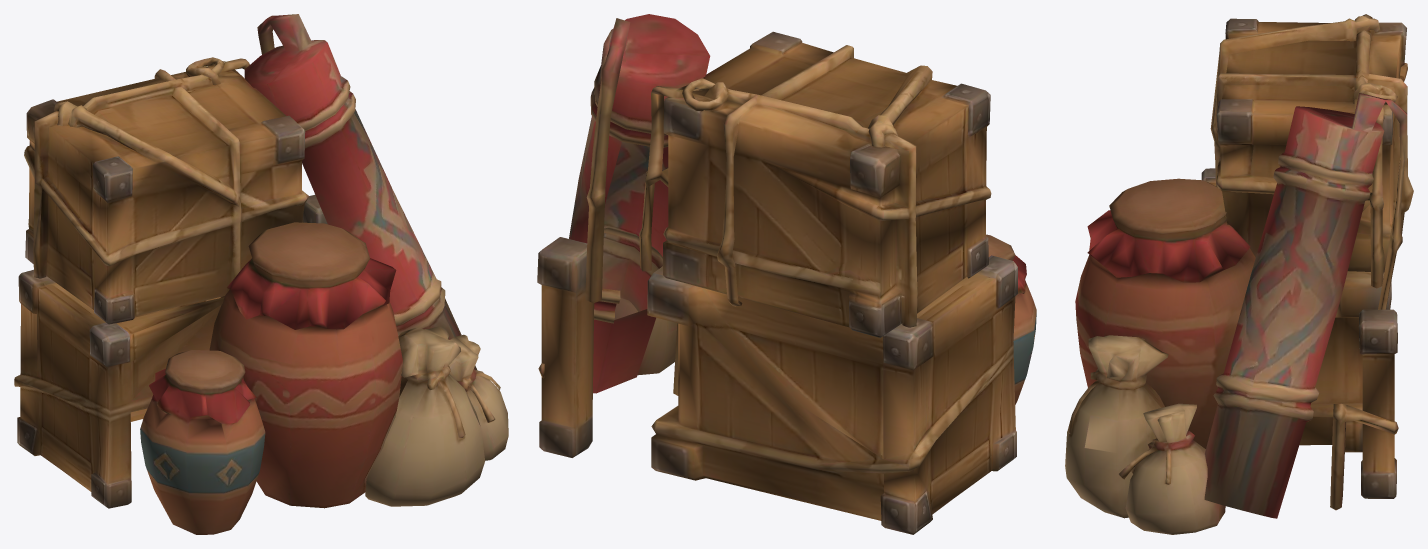
Rendered from SM_Tripo_DesertGoodsPile.glb.
3 renders of one model, left to right at view 1: azimuth 30°, elevation 25°; view 2: azimuth 150°, elevation 25°; view 3: azimuth 270°, elevation 25°, orthographic. The views are drawn at different scales.
Parts seen in each view (by area): view 1: SM_Tripo_DesertGoodsPile_LOD0; view 2: SM_Tripo_DesertGoodsPile_LOD0; view 3: SM_Tripo_DesertGoodsPile_LOD0.
Part boxes in pixels (left/top/right/bottom): SM_Tripo_DesertGoodsPile_LOD0: left=14, top=14, right=508, bottom=534; SM_Tripo_DesertGoodsPile_LOD0: left=537, top=14, right=1036, bottom=534; SM_Tripo_DesertGoodsPile_LOD0: left=1065, top=14, right=1413, bottom=534.
Size of the model in its own units: 1.68 by 1.6 by 1.28.
1 material, 1 textured.
